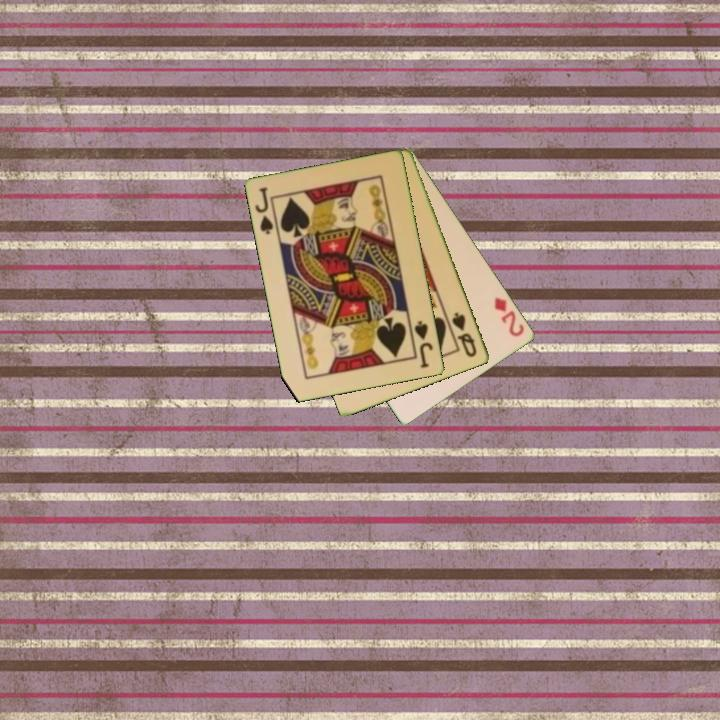2d: (491, 294, 528, 340)
Js: (411, 317, 436, 371), (252, 184, 276, 237)
Qs: (449, 309, 480, 360)
